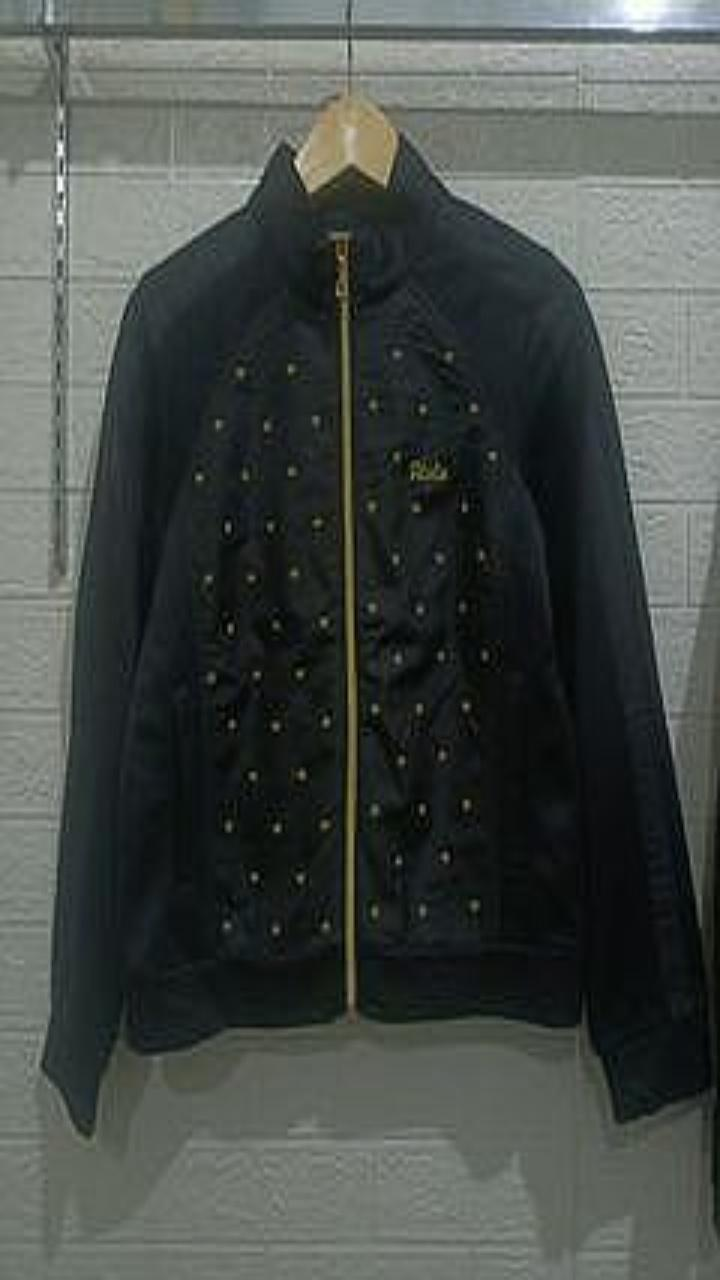Sports_Jacket: (41, 132, 710, 1135)
